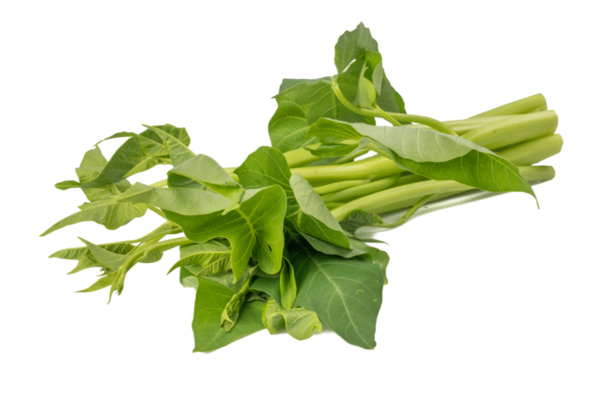Kangkung: (75, 33, 510, 284)
